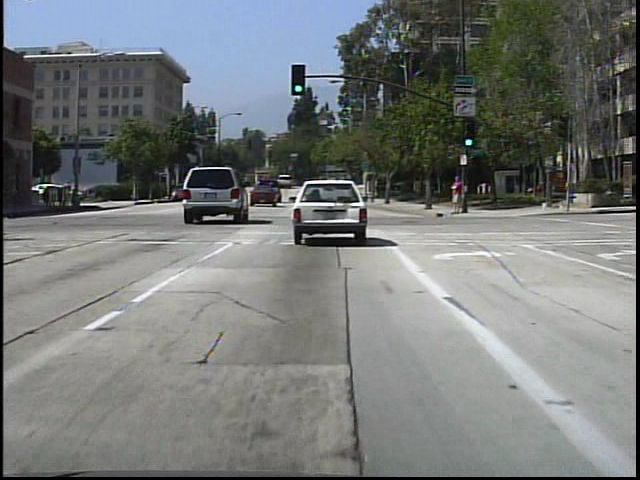person: (446, 171, 467, 217), (64, 181, 75, 213), (73, 182, 83, 209)
